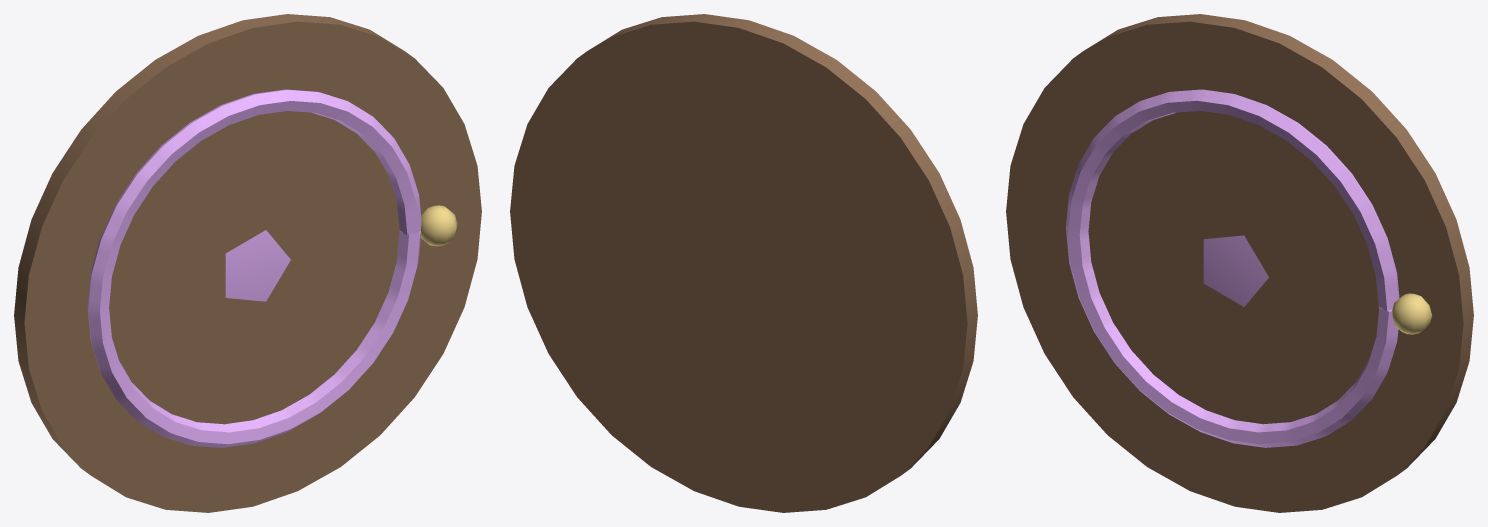
The model's file is MagicOven_Door.fbx.
3 renders of one model, left to right at view 1: azimuth 30°, elevation 25°; view 2: azimuth 150°, elevation 25°; view 3: azimuth 330°, elevation 25°, orthographic.
Visible parts, largest first — view 1: MagicOven_Door; view 2: MagicOven_Door; view 3: MagicOven_Door.
Part boxes in pixels (bbox=[...]): MagicOven_Door: bbox=[14, 14, 481, 512]; MagicOven_Door: bbox=[510, 14, 977, 512]; MagicOven_Door: bbox=[1006, 14, 1473, 512].
Bounding box in the file's own units: 15.2 × 15.2 × 1.4.
